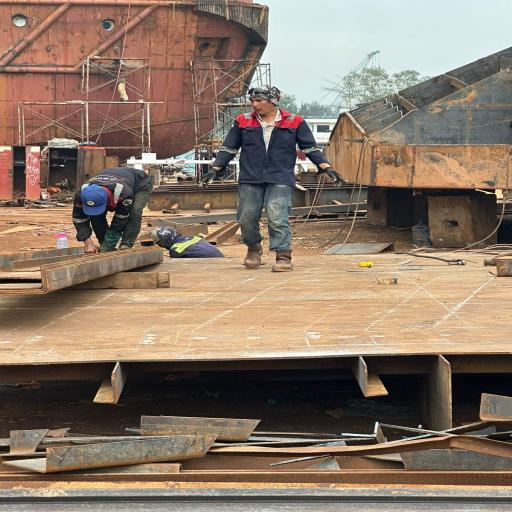safety_shoe: (242, 242, 264, 271), (269, 248, 294, 272)
